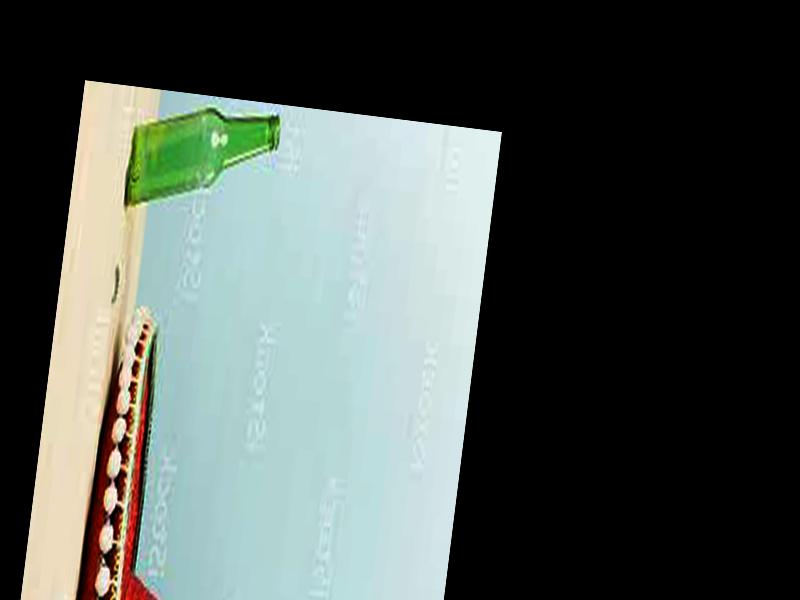Beer: (119, 101, 282, 226)
